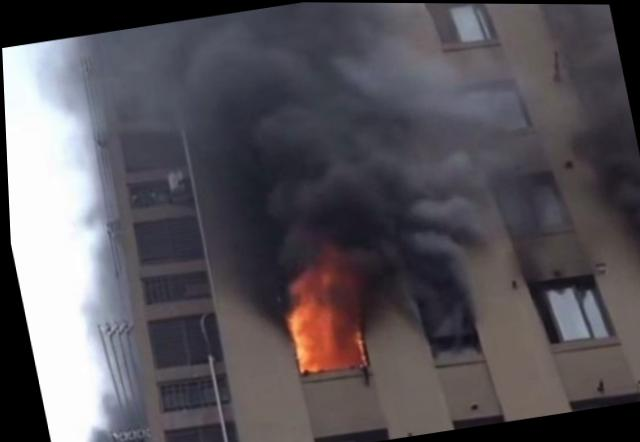fire: (262, 238, 375, 384)
